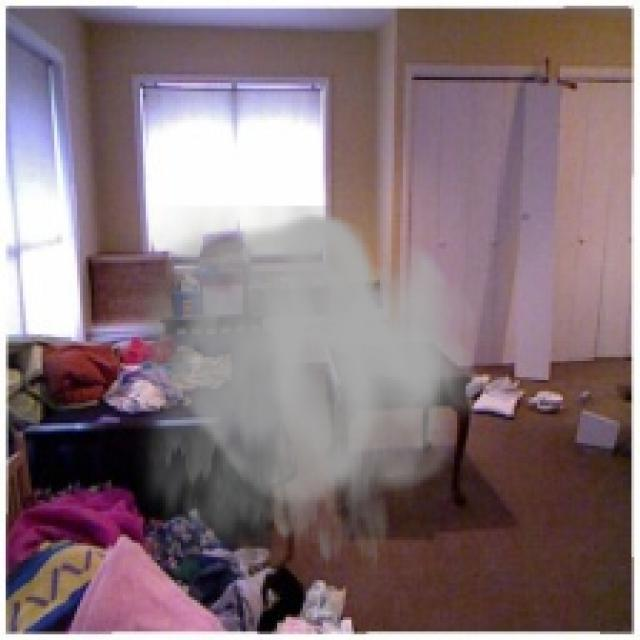Smoke: (117, 206, 480, 612)
